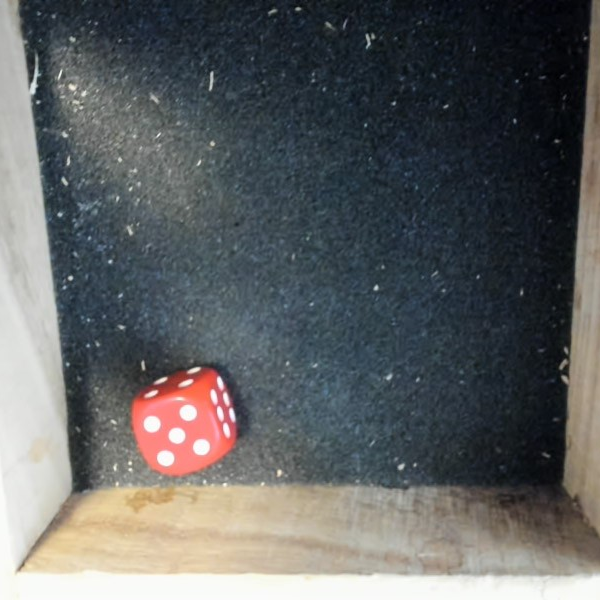red_die_pip5: (119, 358, 250, 487)
